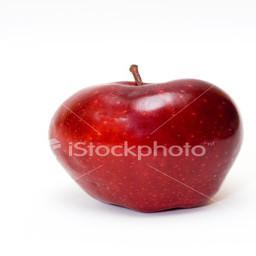apple: (50, 76, 244, 215)
